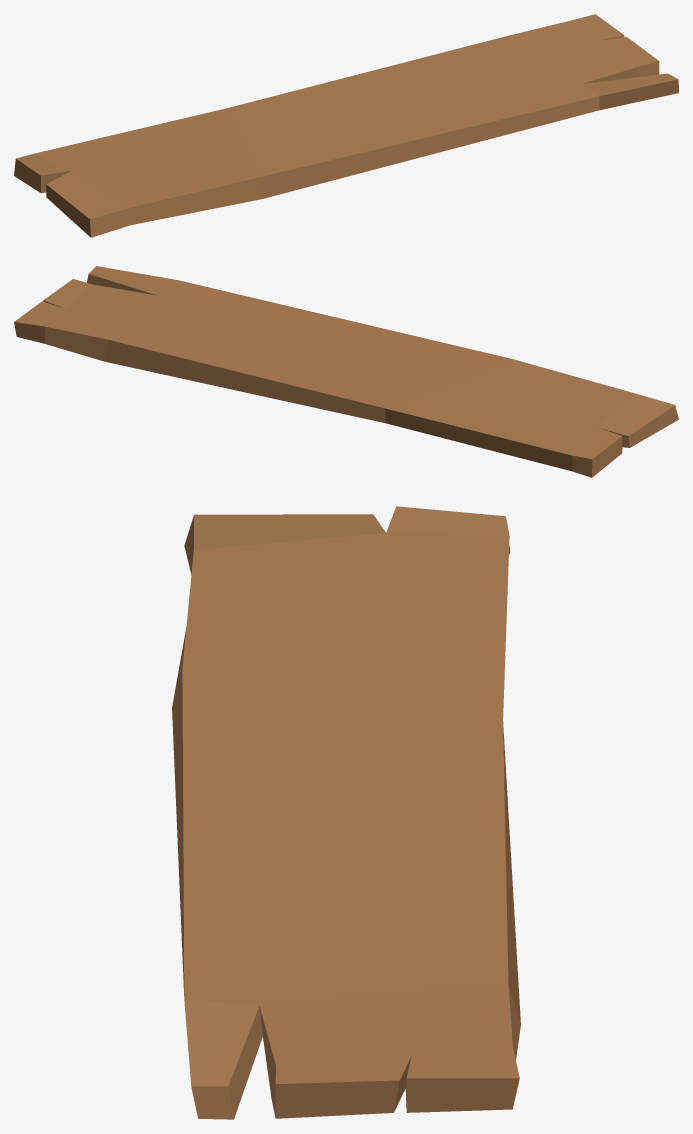
The model's file is plank05.fbx.
The picture shows the model from 3 angles, top to bottom: view 1: azimuth 30°, elevation 25°; view 2: azimuth 150°, elevation 25°; view 3: azimuth 270°, elevation 25°; orthographic projection. The views are drawn at different scales.
Parts seen in each view (by area): view 1: Plane; view 2: Plane; view 3: Plane.
Part boxes in pixels (x1,y1,x2,y2): Plane: [14, 14, 678, 237]; Plane: [14, 266, 678, 477]; Plane: [172, 506, 520, 1119].
Size of the model in its own units: 8.03 by 0.3286 by 2.08.
